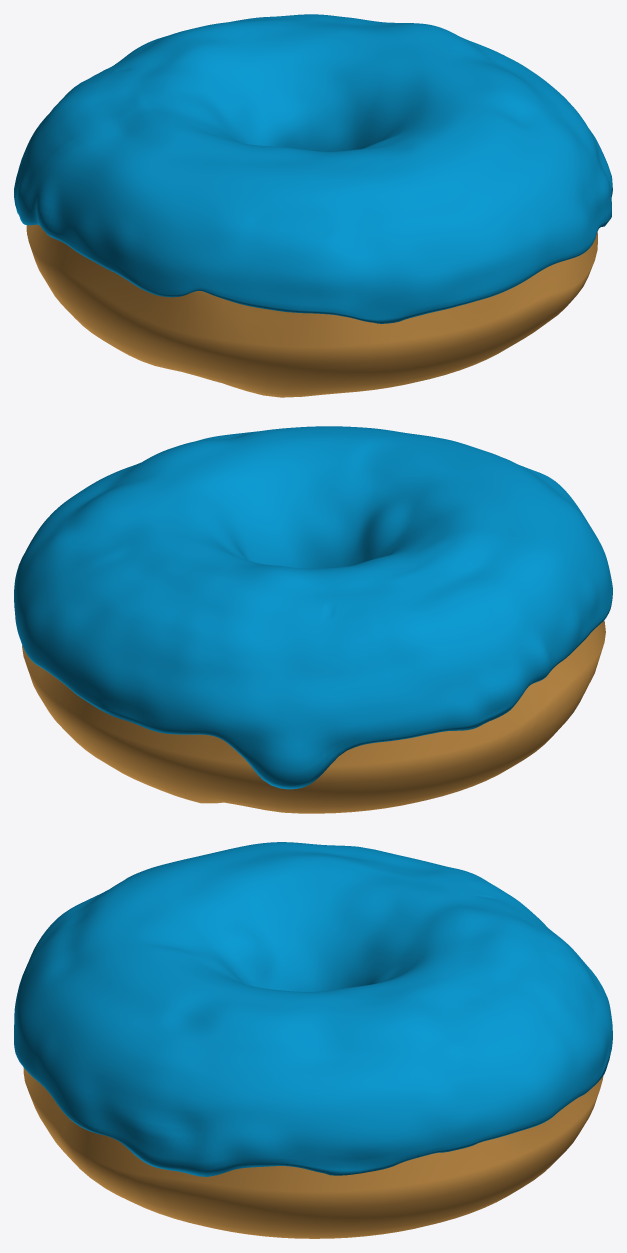
The model's file is donut.glb.
The picture shows the model from 3 angles, top to bottom: view 1: azimuth 30°, elevation 25°; view 2: azimuth 150°, elevation 25°; view 3: azimuth 270°, elevation 25°; orthographic projection.
Parts seen in each view (by area): view 1: Icing, Donut; view 2: Icing, Donut; view 3: Icing, Donut.
Boxes of the visible parts, box(x1,y1,x2,y2) form: Icing: box(14, 14, 612, 323); Donut: box(26, 224, 597, 397); Icing: box(14, 426, 612, 789); Donut: box(22, 621, 605, 813); Icing: box(14, 842, 612, 1176); Donut: box(23, 1068, 603, 1238).
Size of what is drawn, in the model's own units: 0.1001 by 0.0426 by 0.1013.
